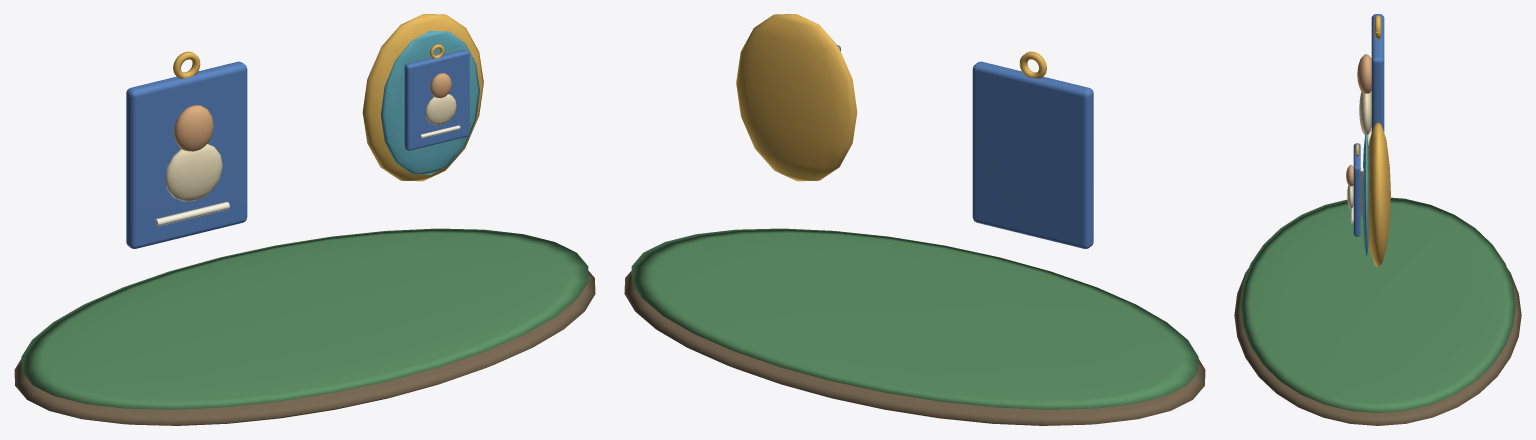
Rendered from complete-first-self-own-reflection.glb.
3 views of the same model, side by side, from view 1: azimuth 30°, elevation 25°; view 2: azimuth 150°, elevation 25°; view 3: azimuth 270°, elevation 25° (orthographic). The views are drawn at different scales.
Parts seen in each view (by area): view 1: complete-first-self-own-reflection_surface_01, complete-first-self-own-reflection_surface_02, complete-first-self-own-reflection_surface_00, complete-first-self-own-reflection_surface_06, complete-first-self-own-reflection_surface_07, complete-first-self-own-reflection_surface_04, complete-first-self-own-reflection_surface_03, complete-first-self-own-reflection_surface_05; view 2: complete-first-self-own-reflection_surface_01, complete-first-self-own-reflection_surface_02, complete-first-self-own-reflection_surface_06, complete-first-self-own-reflection_surface_00; view 3: complete-first-self-own-reflection_surface_01, complete-first-self-own-reflection_surface_00, complete-first-self-own-reflection_surface_06, complete-first-self-own-reflection_surface_02, complete-first-self-own-reflection_surface_07, complete-first-self-own-reflection_surface_03, complete-first-self-own-reflection_surface_04.
Boxes of the visible parts, <box> form: complete-first-self-own-reflection_surface_01: <box>21,228,588,409</box>; complete-first-self-own-reflection_surface_02: <box>126,49,469,248</box>; complete-first-self-own-reflection_surface_00: <box>14,271,595,425</box>; complete-first-self-own-reflection_surface_06: <box>173,14,483,181</box>; complete-first-self-own-reflection_surface_07: <box>381,30,479,174</box>; complete-first-self-own-reflection_surface_04: <box>165,94,456,201</box>; complete-first-self-own-reflection_surface_03: <box>174,73,451,151</box>; complete-first-self-own-reflection_surface_05: <box>155,125,460,226</box>; complete-first-self-own-reflection_surface_01: <box>631,228,1198,409</box>; complete-first-self-own-reflection_surface_02: <box>837,45,1093,248</box>; complete-first-self-own-reflection_surface_06: <box>736,14,1046,181</box>; complete-first-self-own-reflection_surface_00: <box>624,271,1205,425</box>; complete-first-self-own-reflection_surface_01: <box>1240,197,1515,412</box>; complete-first-self-own-reflection_surface_00: <box>1234,268,1521,425</box>; complete-first-self-own-reflection_surface_06: <box>1355,15,1390,266</box>; complete-first-self-own-reflection_surface_02: <box>1353,14,1384,236</box>; complete-first-self-own-reflection_surface_07: <box>1362,133,1368,256</box>; complete-first-self-own-reflection_surface_03: <box>1346,54,1371,186</box>; complete-first-self-own-reflection_surface_04: <box>1347,91,1371,208</box>.
Size of the model in its own units: 4.56 by 2.54 by 2.5.
